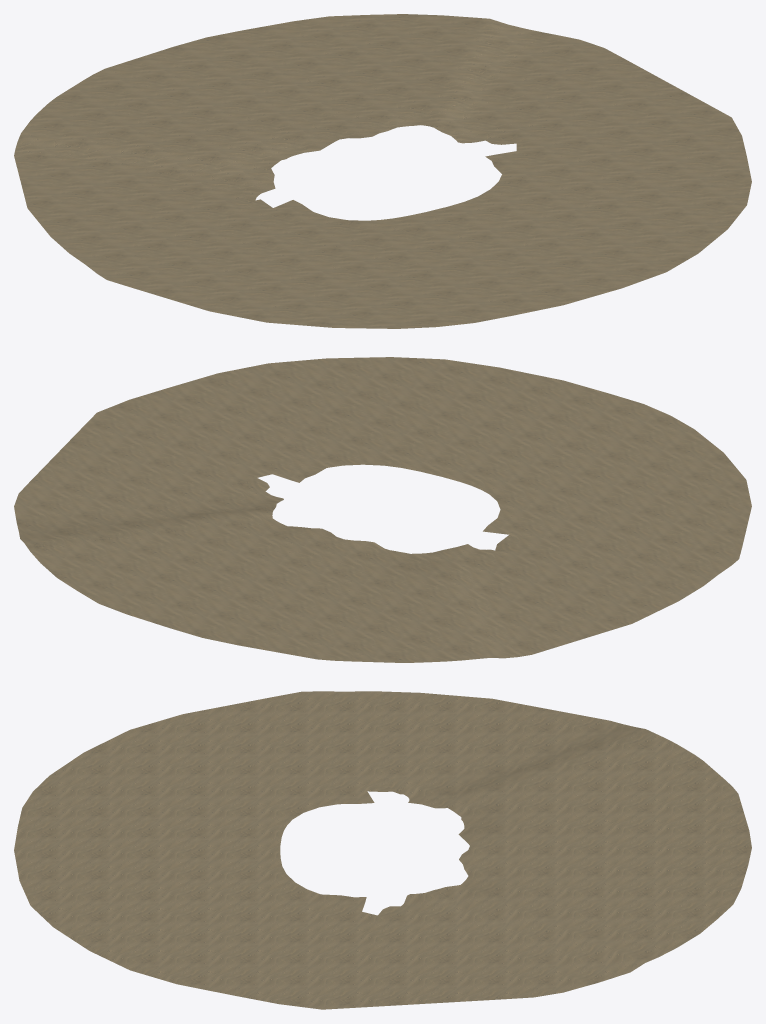
The model's file is pref_sm_beach_techsmall_001_sea02_lv1.fbx.
The picture shows the model from 3 angles, top to bottom: view 1: azimuth 30°, elevation 25°; view 2: azimuth 150°, elevation 25°; view 3: azimuth 270°, elevation 25°; orthographic projection. The views are drawn at different scales.
Parts seen in each view (by area): view 1: pref_sm_beach_techsmall_001_sea02_lv1; view 2: pref_sm_beach_techsmall_001_sea02_lv1; view 3: pref_sm_beach_techsmall_001_sea02_lv1.
Part boxes in pixels (x1=…): pref_sm_beach_techsmall_001_sea02_lv1: x1=14, y1=14, x2=751, y2=328; pref_sm_beach_techsmall_001_sea02_lv1: x1=14, y1=357, x2=751, y2=662; pref_sm_beach_techsmall_001_sea02_lv1: x1=14, y1=691, x2=751, y2=1009.
Bounding box in the file's own units: 373 × 4.56 × 365.
